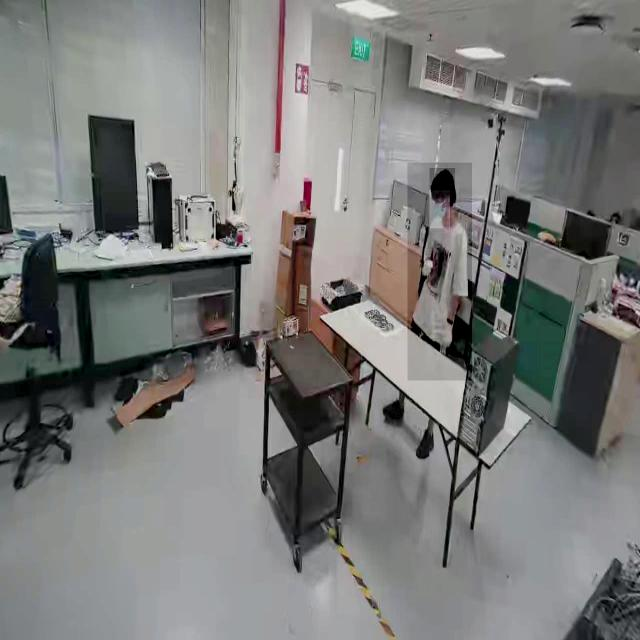face_mask: (430, 190, 450, 228)
hand_glove: (418, 249, 438, 290)
head_nohelmet: (430, 168, 456, 191)
person: (408, 163, 472, 381)
shoes: (412, 426, 437, 466), (380, 398, 406, 422)
